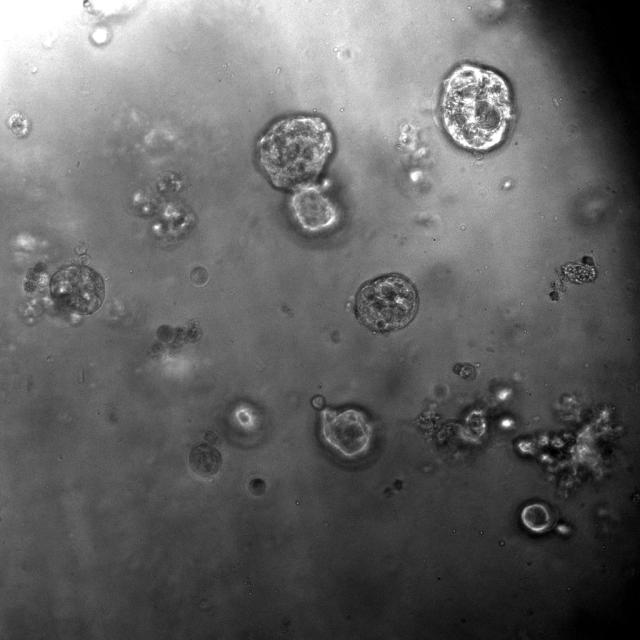organoid: (512, 394, 623, 498), (256, 114, 341, 236), (411, 381, 516, 465), (18, 242, 105, 326), (439, 63, 514, 152), (309, 393, 384, 470), (129, 171, 196, 245), (354, 273, 418, 333), (396, 121, 432, 192), (518, 498, 572, 539), (549, 256, 598, 301), (148, 319, 202, 358), (226, 399, 268, 448), (188, 431, 222, 481), (8, 112, 29, 137), (247, 476, 268, 497), (452, 363, 476, 380), (190, 266, 209, 286)
